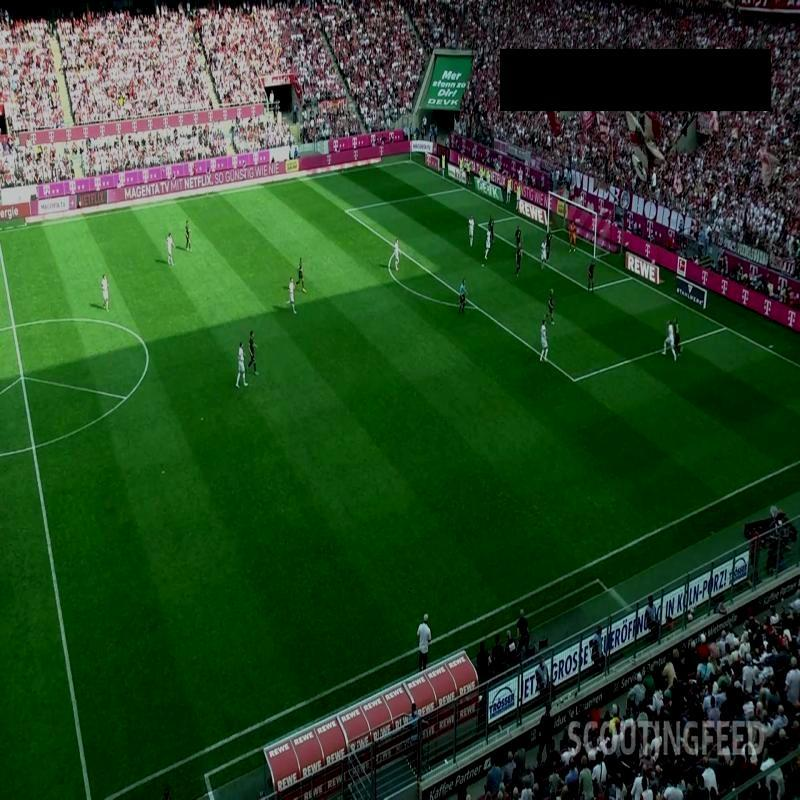1: (403, 154, 417, 168)
10: (391, 243, 405, 257)
11: (468, 299, 482, 312)
12: (567, 374, 581, 388)
14: (7, 320, 21, 334)
15: (26, 440, 40, 454)
2: (457, 181, 472, 195)
3: (510, 208, 524, 222)
4: (624, 270, 639, 284)
5: (719, 320, 734, 334)
7: (473, 216, 488, 230)
8: (584, 283, 598, 297)
9: (338, 205, 352, 218)
c: (138, 342, 152, 356)
